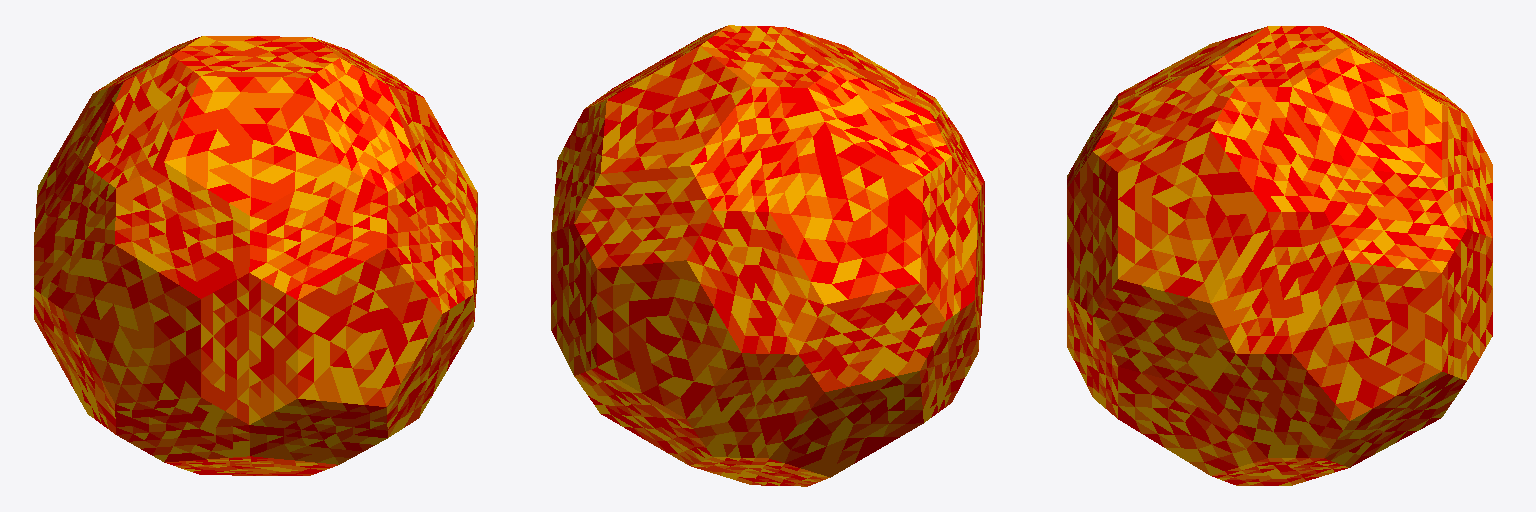
File: testfc.obj
3 renders of one model, left to right at view 1: azimuth 30°, elevation 25°; view 2: azimuth 150°, elevation 25°; view 3: azimuth 270°, elevation 25°, orthographic.
Parts seen in each view (by area): view 1: 0; view 2: 0; view 3: 0.
Boxes of the visible parts, x1=… form: 0: x1=34, y1=36, x2=477, y2=475; 0: x1=551, y1=25, x2=984, y2=486; 0: x1=1067, y1=26, x2=1492, y2=485.
Size of the model in its own units: 388 by 369 by 356.